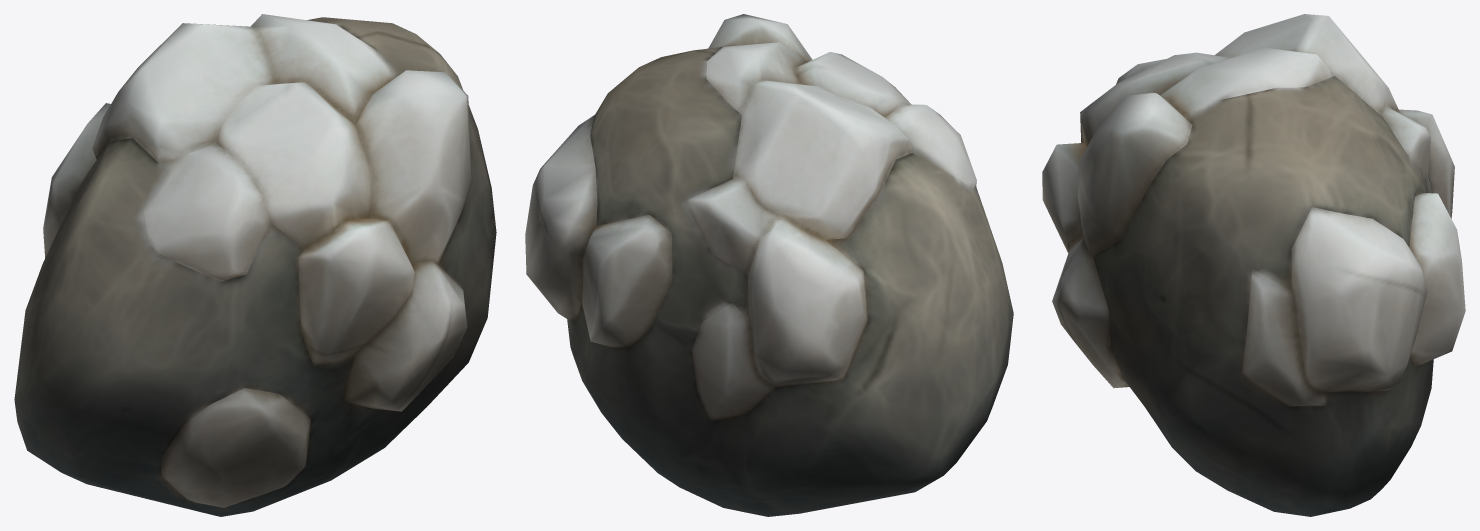
File: SM_Gem_Silver_006.fbx
The picture shows the model from 3 angles, left to right: view 1: azimuth 30°, elevation 25°; view 2: azimuth 150°, elevation 25°; view 3: azimuth 270°, elevation 25°; orthographic projection. The views are drawn at different scales.
Visible parts, largest first — view 1: SM_Gem_Silver_006; view 2: SM_Gem_Silver_006; view 3: SM_Gem_Silver_006.
Part boxes in pixels (x1,y1,x2,y2): SM_Gem_Silver_006: (14,14,496,516); SM_Gem_Silver_006: (525,14,1013,516); SM_Gem_Silver_006: (1042,14,1465,516).
Size of the model in its own units: 48.95 by 48.23 by 39.75.
